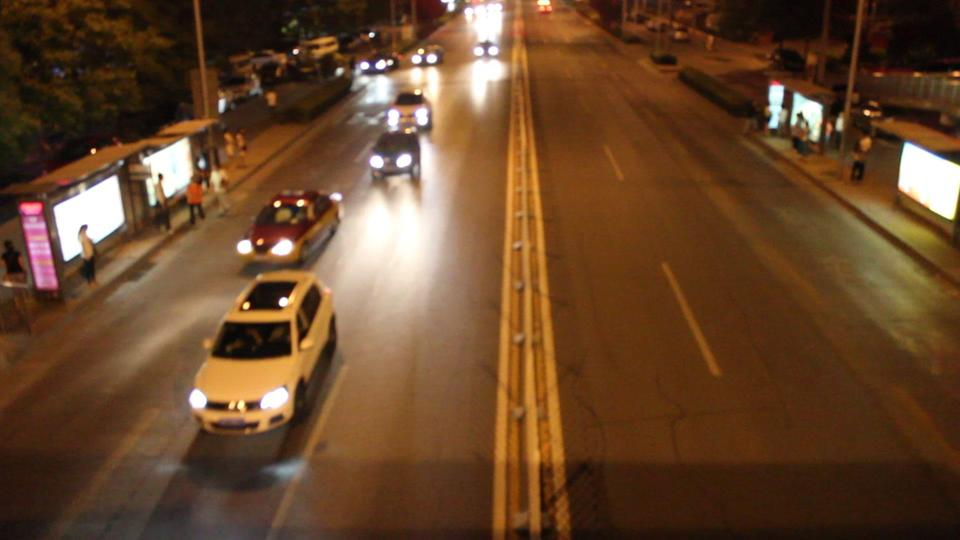car: (234, 187, 342, 271), (385, 89, 434, 131), (358, 51, 400, 74), (410, 44, 446, 66)
microbus: (296, 34, 338, 61)
suv: (183, 271, 336, 435), (367, 124, 421, 185)
